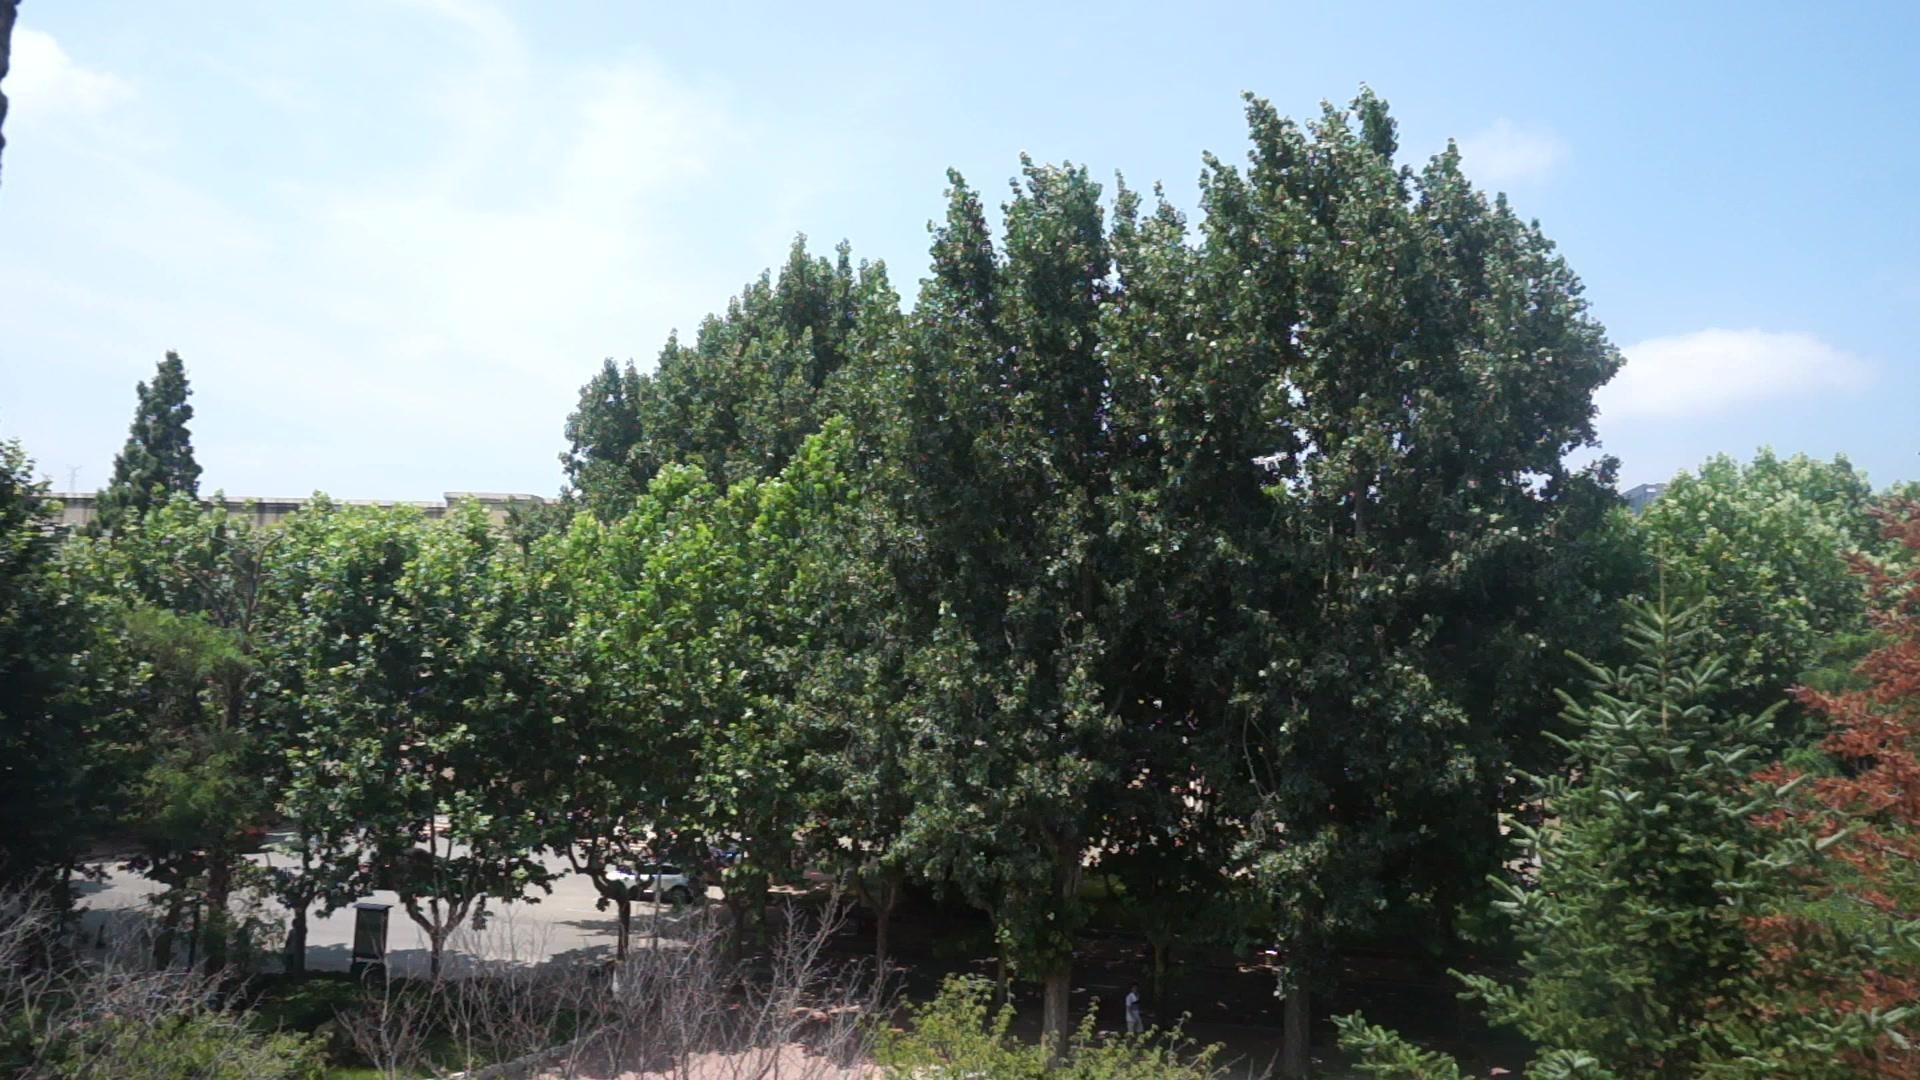UAV: (1251, 454, 1288, 472)
